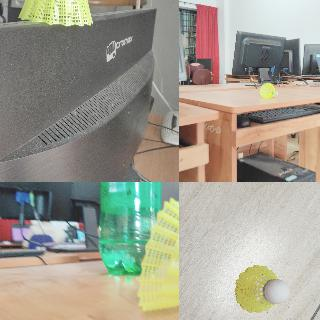shuttlecock: (136, 197, 178, 312), (237, 264, 290, 314), (17, 0, 93, 28), (258, 82, 278, 98)
